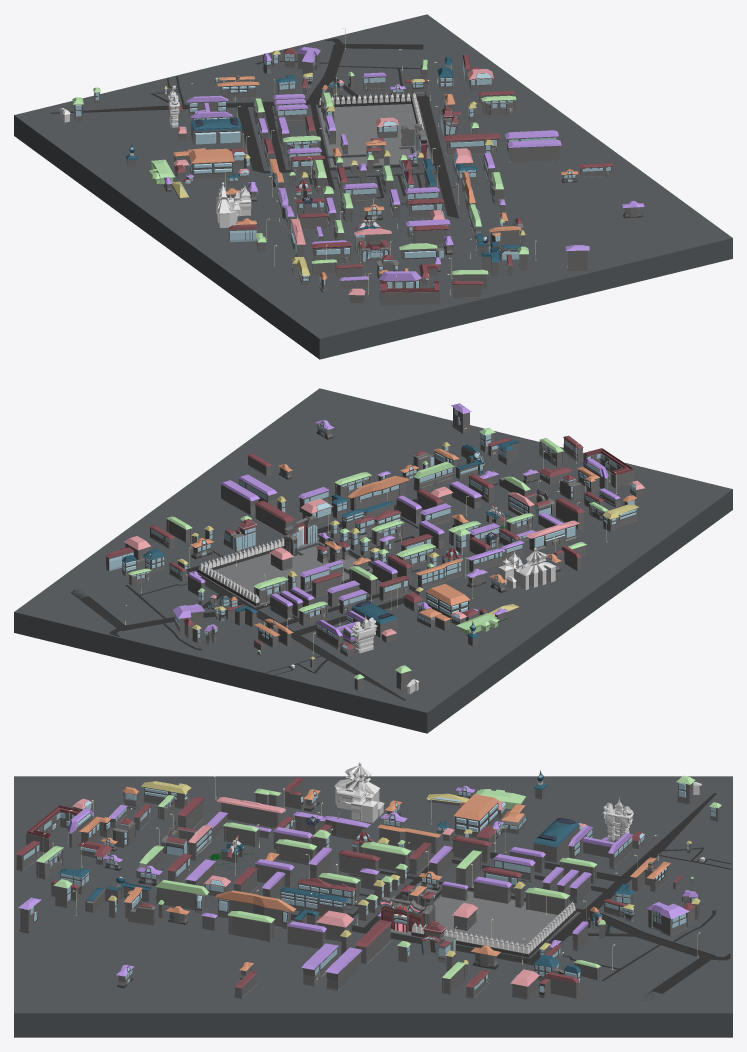
Rendered from rakovo2021.fbx.
The picture shows the model from 3 angles, top to bottom: view 1: azimuth 30°, elevation 25°; view 2: azimuth 150°, elevation 25°; view 3: azimuth 270°, elevation 25°; orthographic projection. The views are drawn at different scales.
Visible parts, largest first — view 1: Plane, Cube.018, Cube, Cube.167, Cube.084, Cube.132, Cube.022, Cube.083, Cube.028, Cube.044, Cube.125, Cube.146 (+8 smaller); view 2: Plane, Cube.132, Cube.145, Cube, Cube.090, Cube.022, Cube.057, Cube.167, Cube.037, Cube.085, Cube.144, Cube.065 (+22 smaller); view 3: Plane, Cube.132, Cube.145, Cube.022, Cube.057, Cube, Cube.090, Cube.018, Cube.144, Cube.068, Cube.079, Cube.167 (+60 smaller).
Part boxes in pixels (bbox=[...]): Plane: bbox=[14, 14, 732, 359]; Cube.018: bbox=[191, 117, 241, 144]; Cube: bbox=[188, 148, 234, 178]; Cube.167: bbox=[379, 281, 440, 305]; Cube.084: bbox=[507, 139, 561, 162]; Cube.132: bbox=[215, 182, 251, 227]; Cube.022: bbox=[187, 95, 232, 120]; Cube.083: bbox=[443, 133, 500, 156]; Cube.028: bbox=[217, 75, 259, 99]; Cube.044: bbox=[311, 242, 352, 263]; Cube.125: bbox=[318, 93, 411, 107]; Cube.146: bbox=[475, 233, 522, 260]; Plane: bbox=[14, 388, 732, 733]; Cube.132: bbox=[498, 548, 556, 589]; Cube.145: bbox=[348, 476, 409, 510]; Cube: bbox=[425, 583, 469, 620]; Cube.090: bbox=[526, 520, 579, 551]; Cube.022: bbox=[315, 610, 368, 649]; Cube.057: bbox=[284, 516, 318, 556]; Cube.167: bbox=[583, 448, 633, 488]; Cube.037: bbox=[198, 537, 284, 573]; Cube.085: bbox=[467, 540, 524, 571]; Cube.144: bbox=[413, 461, 454, 491]; Cube.065: bbox=[220, 480, 259, 515]; Plane: bbox=[14, 776, 732, 1037]; Cube.132: bbox=[334, 762, 380, 822]; Cube.145: bbox=[215, 890, 295, 928]; Cube.022: bbox=[568, 825, 632, 868]; Cube.057: bbox=[379, 896, 435, 932]; Cube: bbox=[454, 794, 499, 837]; Cube.090: bbox=[216, 797, 285, 827]; Cube.018: bbox=[533, 817, 579, 862]; Cube.144: bbox=[155, 879, 209, 913]; Cube.068: bbox=[280, 887, 348, 916]; Cube.079: bbox=[228, 911, 274, 941]; Cube.167: bbox=[26, 805, 80, 852].
Bounding box in the file's own units: 986 × 131 × 1264.
